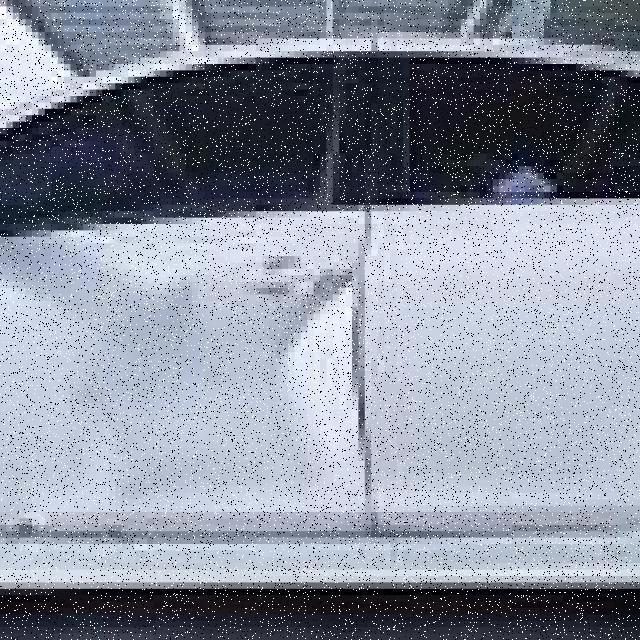doorouter-dent: (0, 224, 359, 538)
